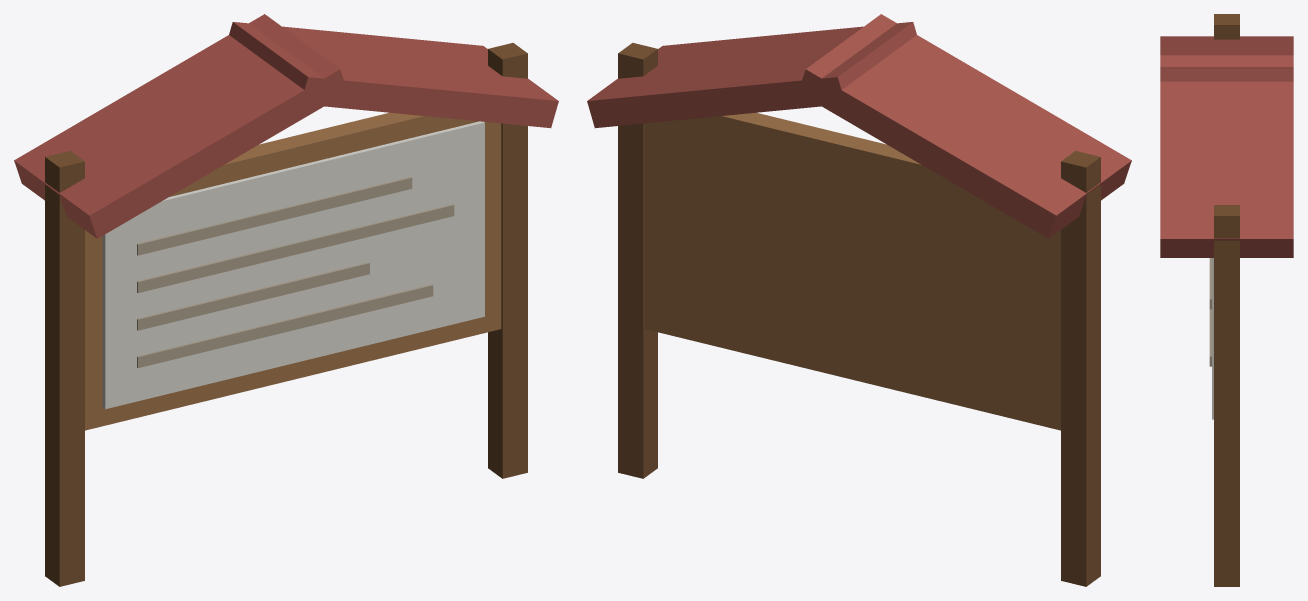
Rendered from prop_plaza_board_ph.glb.
3 views of the same model, side by side, from view 1: azimuth 30°, elevation 25°; view 2: azimuth 150°, elevation 25°; view 3: azimuth 270°, elevation 25° (orthographic). The views are drawn at different scales.
Parts seen in each view (by area): view 1: prop_plaza_board; view 2: prop_plaza_board; view 3: prop_plaza_board.
Boxes of the visible parts, left/top/right/bottom form: prop_plaza_board: left=14, top=14, right=558, bottom=586; prop_plaza_board: left=587, top=14, right=1131, bottom=586; prop_plaza_board: left=1160, top=14, right=1293, bottom=586.
Size of the model in its own units: 2.23 by 2.17 by 0.62.
